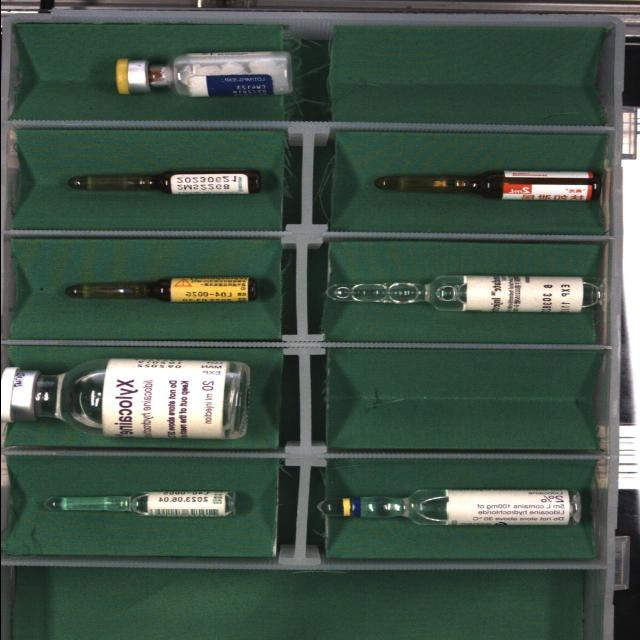Vials: (0, 358, 249, 439), (115, 51, 291, 97)
